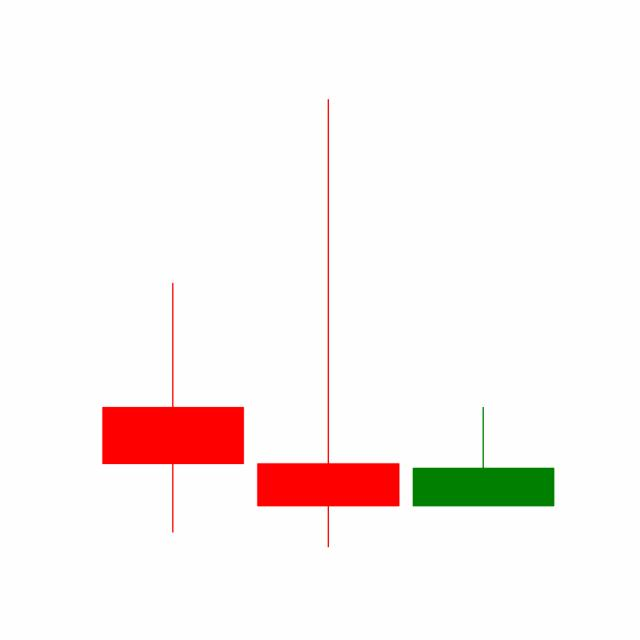Gravestone Doji: (405, 404, 561, 506)
